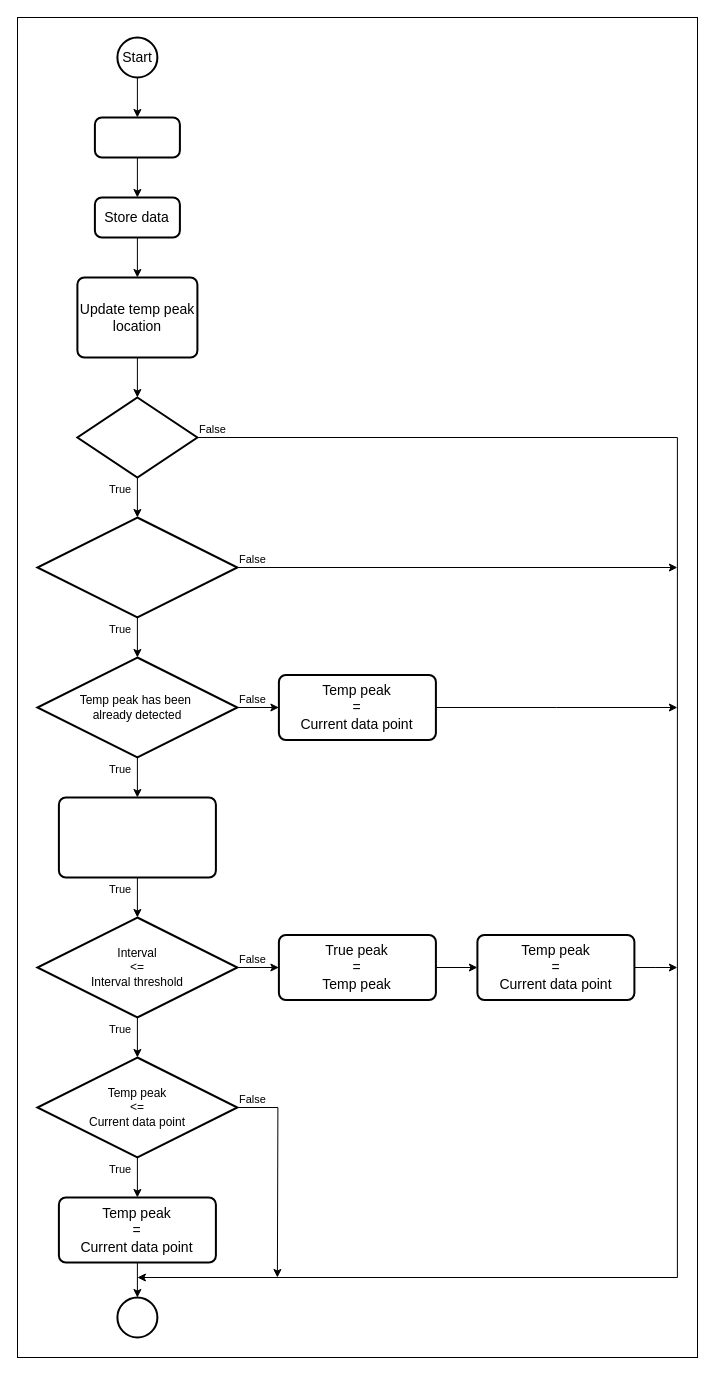
The diagram is 715 pixels wide and 1375 high, and some of its shapes have lost their labels. Here are the shapes that lost their labels. From the top down, the box of each, then its label:
(93, 116, 180, 158): Filter data
(76, 396, 198, 478): Receive enough data
(36, 516, 238, 618): Current data point >= Amplitude threshold
(57, 796, 216, 878): Interval = Interval from current point to temp peak
(116, 1296, 158, 1338): Stop
